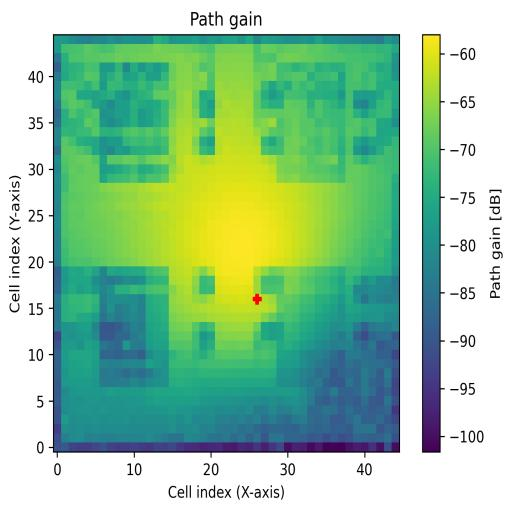Concrete: (278, 62, 345, 183)
Glass: (100, 62, 168, 184)
Metal: (276, 268, 346, 388)
Wood: (100, 266, 170, 388)
